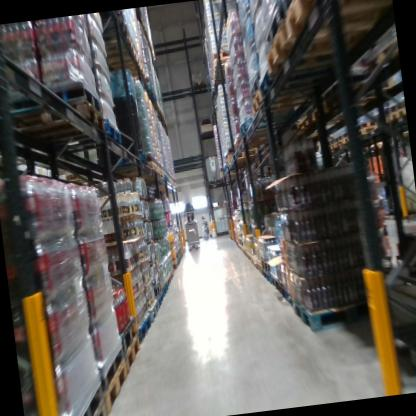pallet: (259, 8, 370, 76), (255, 42, 375, 99), (289, 289, 395, 346), (7, 114, 125, 163), (282, 0, 395, 48), (5, 104, 108, 147), (8, 80, 107, 124), (244, 75, 337, 120), (96, 355, 131, 412), (229, 126, 288, 158), (115, 333, 146, 382), (94, 46, 145, 75), (85, 149, 149, 171), (235, 110, 288, 135), (94, 32, 140, 58), (96, 12, 132, 44), (103, 159, 159, 178), (102, 64, 148, 85), (117, 313, 138, 354), (129, 314, 154, 347), (69, 394, 105, 416), (224, 146, 261, 164), (140, 297, 161, 326), (211, 55, 240, 74), (259, 254, 277, 276), (292, 115, 310, 135), (388, 107, 406, 126), (358, 123, 380, 138), (273, 271, 284, 299), (260, 268, 275, 286), (149, 280, 163, 298), (285, 289, 296, 310), (279, 282, 289, 302), (319, 142, 335, 153), (158, 280, 169, 296), (154, 291, 164, 308), (343, 136, 357, 148), (333, 139, 345, 151), (145, 150, 156, 163), (165, 272, 172, 285), (169, 268, 176, 278)
pallet_truck: (177, 203, 202, 253)
